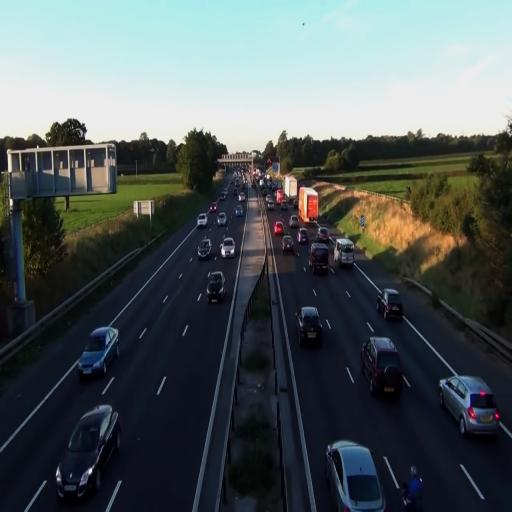vehicle: (55, 402, 122, 500), (325, 439, 385, 512), (438, 373, 501, 438), (361, 337, 405, 397), (77, 326, 119, 379), (295, 306, 323, 346), (377, 288, 403, 322), (298, 185, 320, 225), (205, 270, 226, 304), (309, 243, 329, 275), (338, 239, 355, 267), (197, 236, 213, 260), (219, 235, 235, 258), (282, 234, 296, 255), (198, 212, 208, 230), (234, 204, 245, 220), (216, 212, 227, 227)
